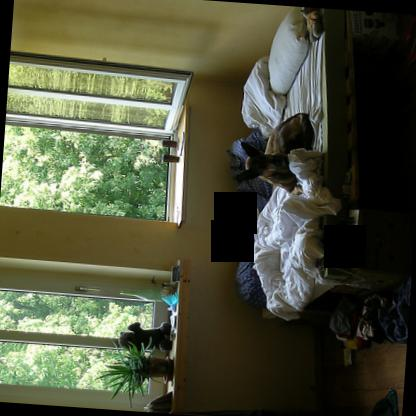suitcase: (168, 406, 345, 416)
